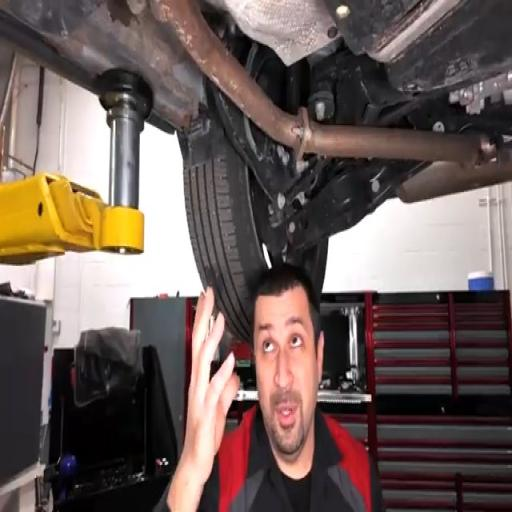tire: (184, 131, 267, 341)
